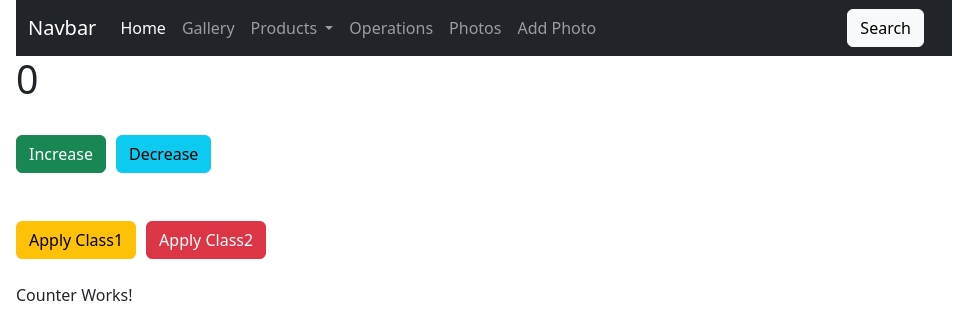
Test: counter template spec › decrement test
The width and height of the screenshot is (969, 318).
Click the button "Decrease": (164, 154) [116, 135, 211, 173]
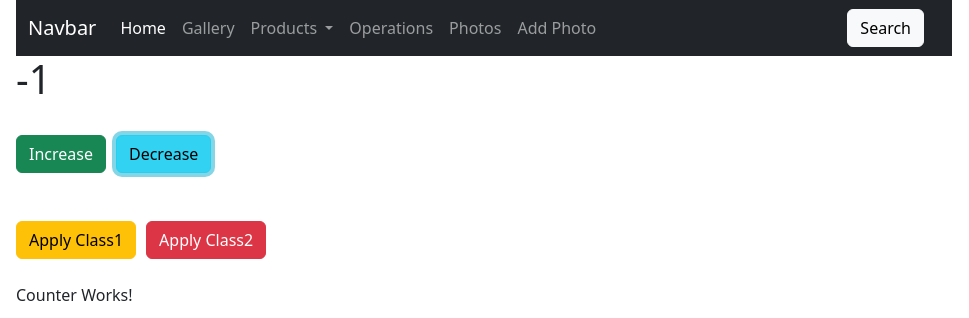
Now the heading "-1" is shown, box [16, 52, 51, 106]
